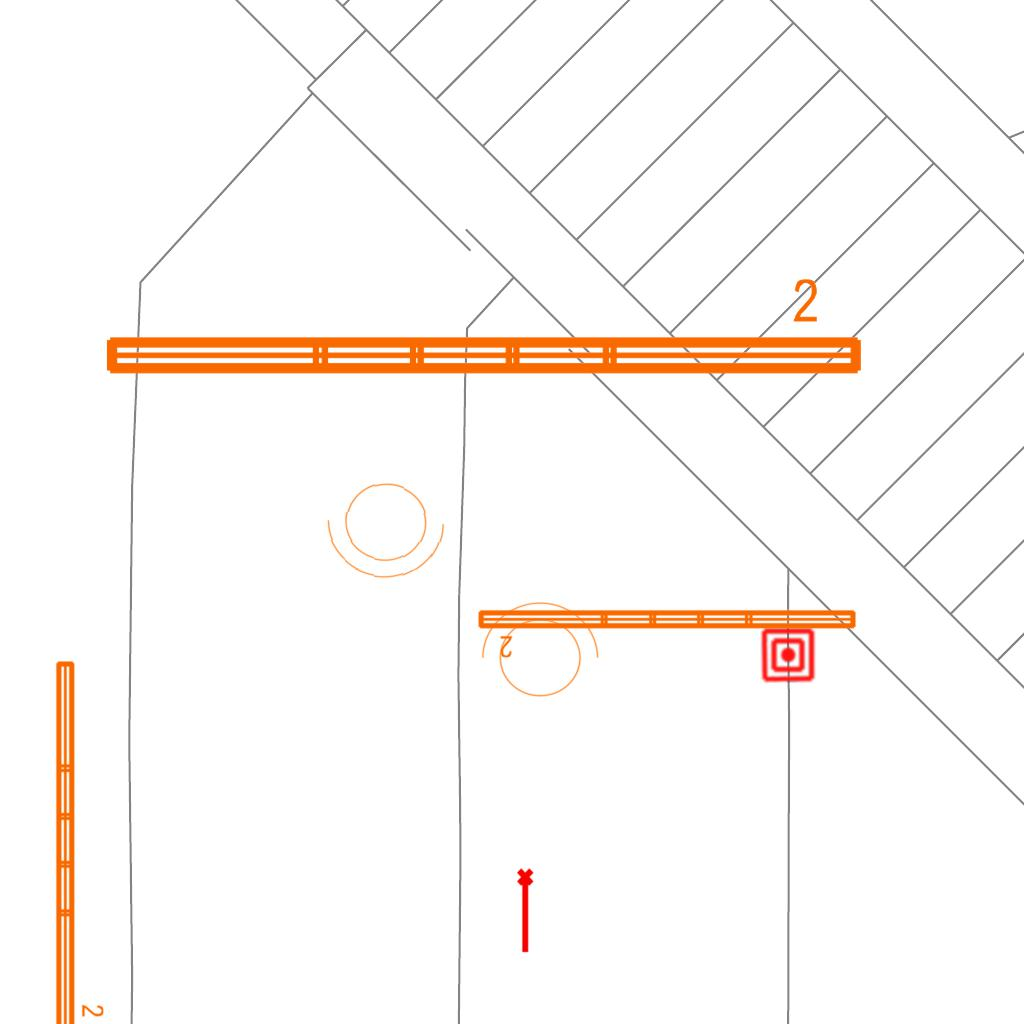ASR_Ansaugoeffnung: (515, 867, 538, 955)
Ambulanz_Pendelleuchte_LED: (96, 274, 870, 386), (474, 604, 861, 660), (50, 656, 106, 1024)
NAM-Nichtautomatischer_Melder: (760, 627, 816, 683)
Scheinwerfer_fuer_Alarmbeleuchtung: (321, 468, 457, 586), (471, 597, 603, 709)
